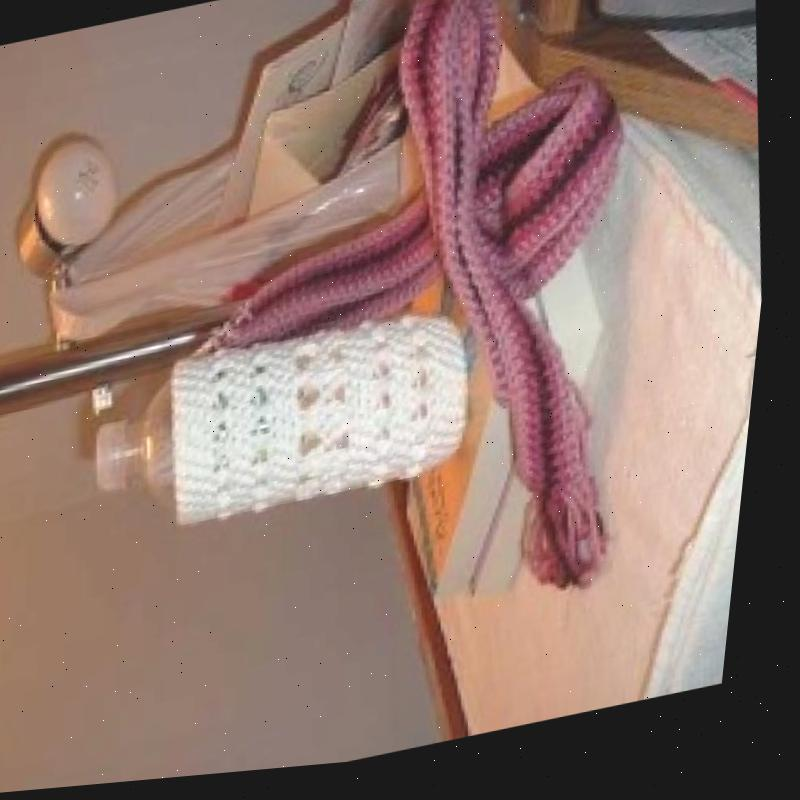botella: (90, 383, 195, 527)
